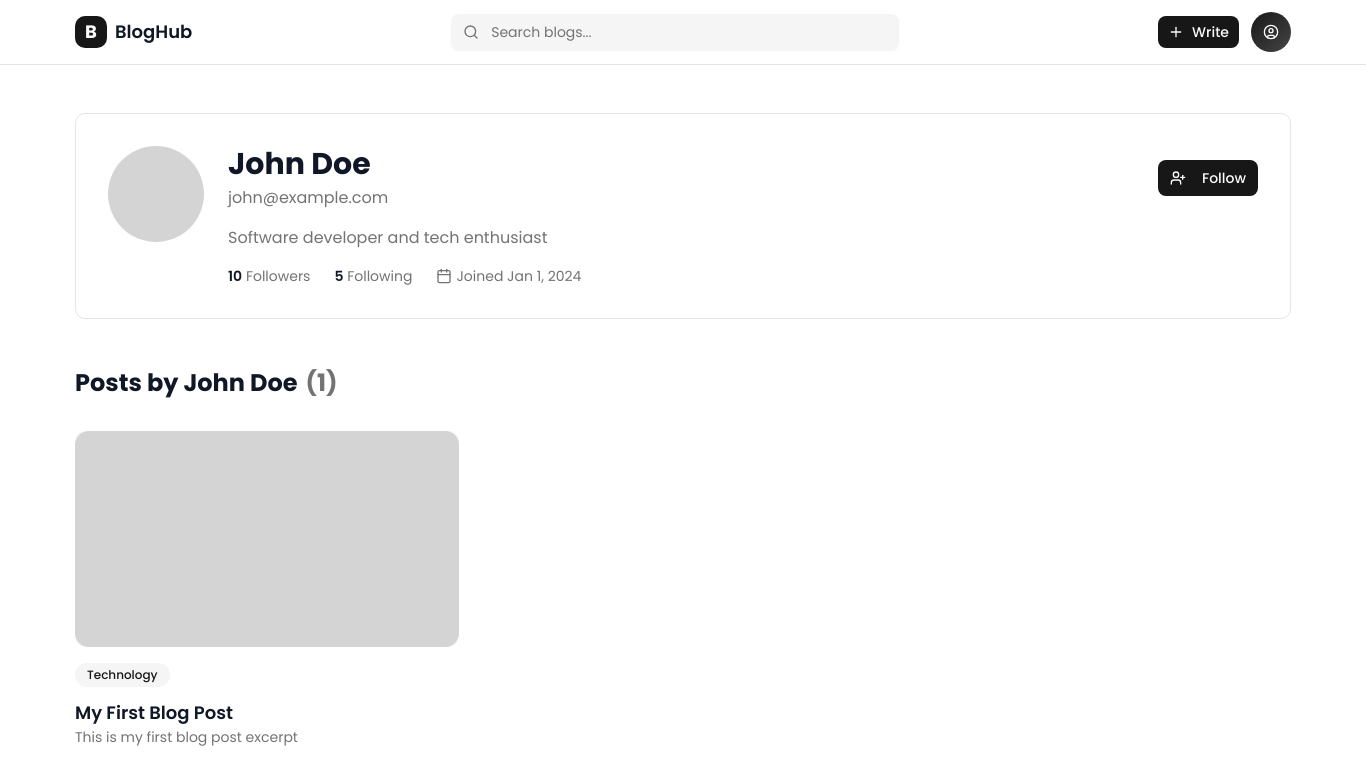
UserProfilePage › should handle follow action successfully
This screenshot has width=1366, height=760.
Click the button "Follow". click: click(1208, 178)
box: [1158, 160, 1258, 196]
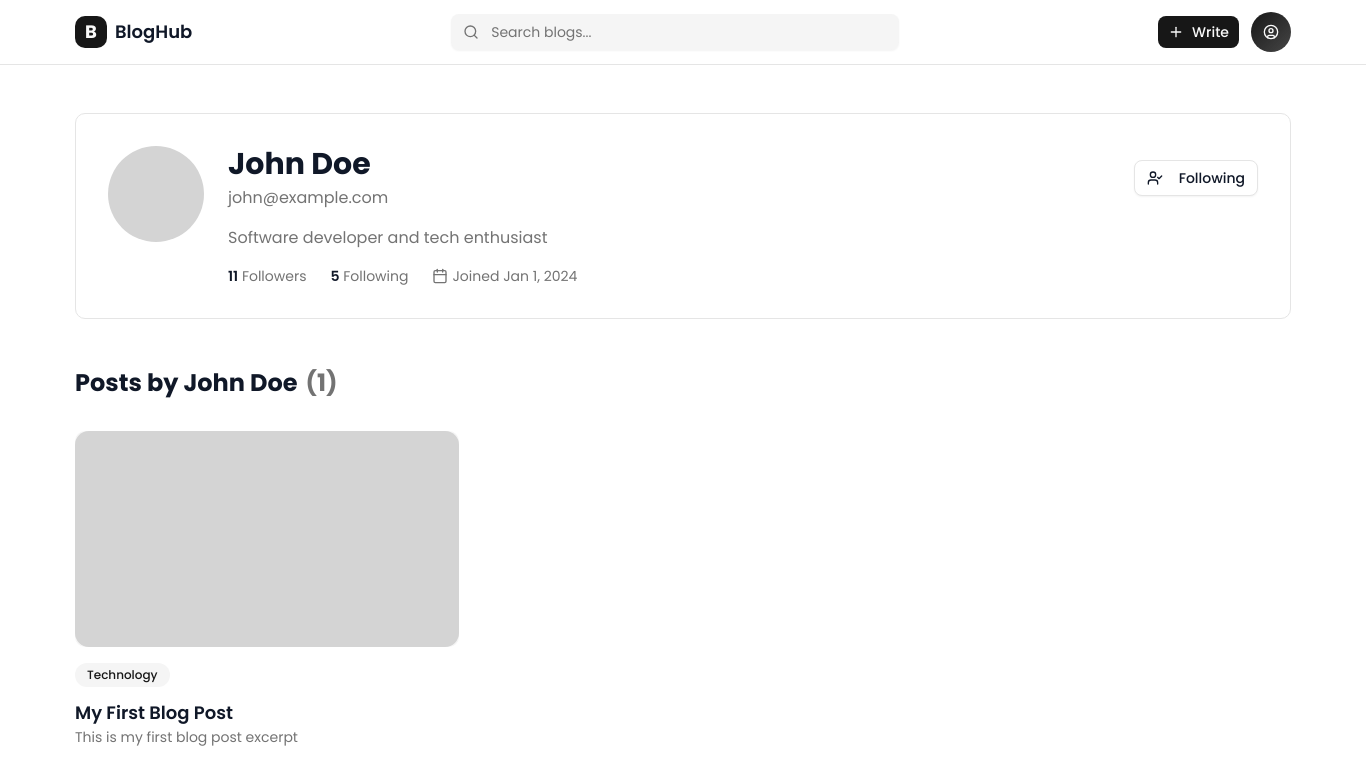
Now the text "11" is shown, box [228, 266, 238, 286]
